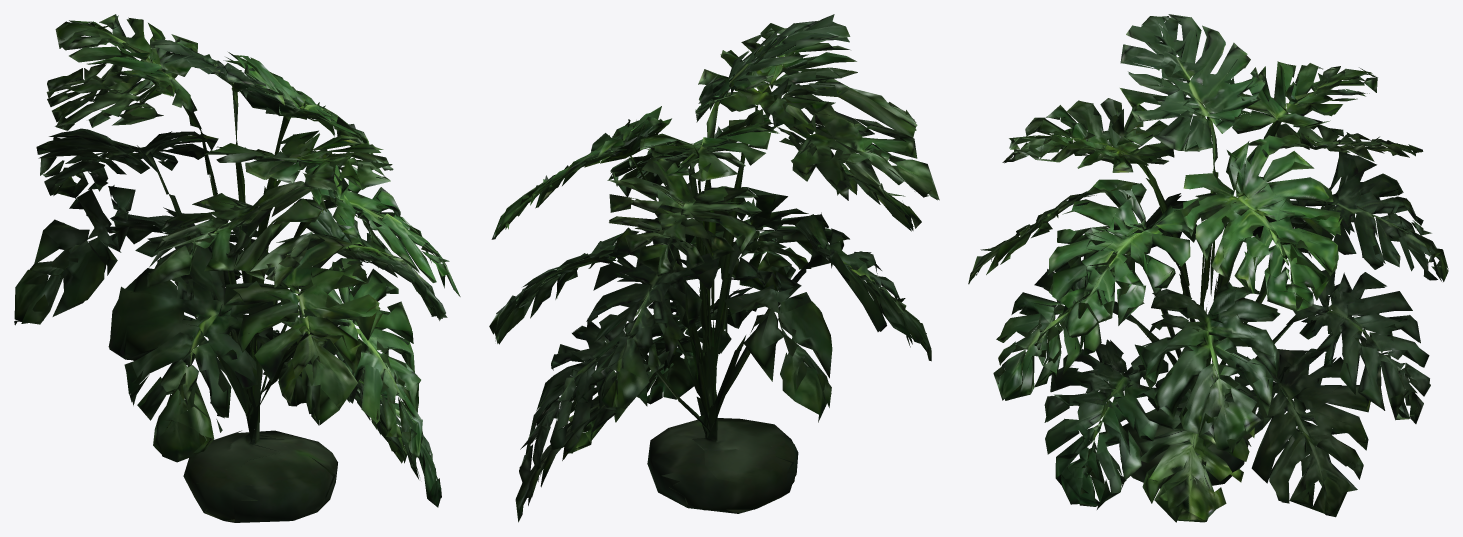
File: monstera_clump_LOD1.fbx
3 views of the same model, side by side, from view 1: azimuth 30°, elevation 25°; view 2: azimuth 150°, elevation 25°; view 3: azimuth 270°, elevation 25° (orthographic). The views are drawn at different scales.
Parts seen in each view (by area): view 1: monstera_clump.001; view 2: monstera_clump.001; view 3: monstera_clump.001.
Part boxes in pixels (box(x1,y1,x2,y2)): monstera_clump.001: box(14, 14, 460, 522); monstera_clump.001: box(489, 14, 939, 522); monstera_clump.001: box(968, 14, 1448, 522).
Size of the model in its own units: 1.23 by 1.49 by 1.59.
Materials: 1 (1 with a texture image).
